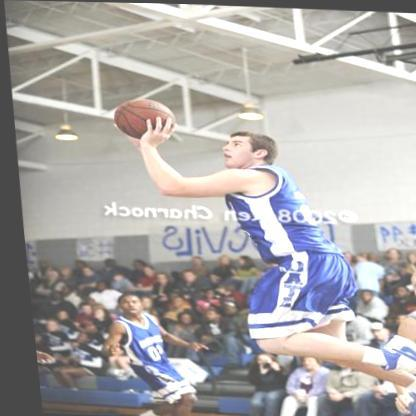basketball: (109, 96, 176, 140)
